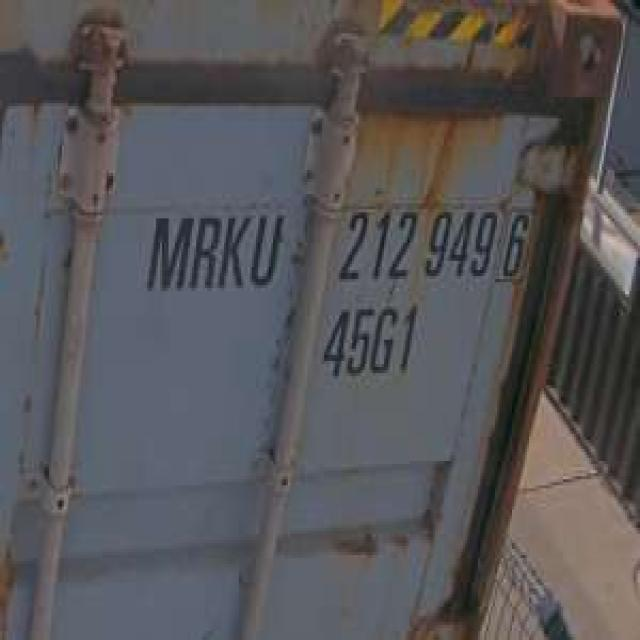dv: (497, 200, 536, 285)
owner: (139, 200, 286, 304)
serial: (331, 200, 499, 288)
size: (316, 294, 422, 385)
